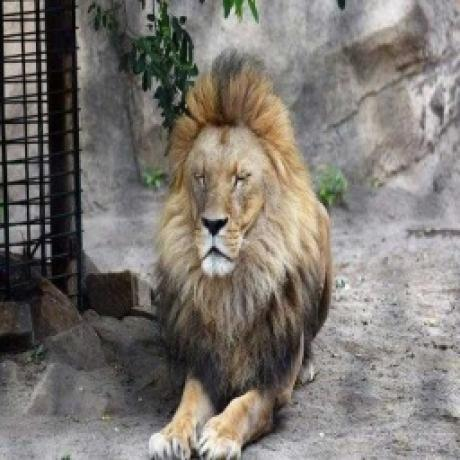Lion: (145, 52, 338, 460)
